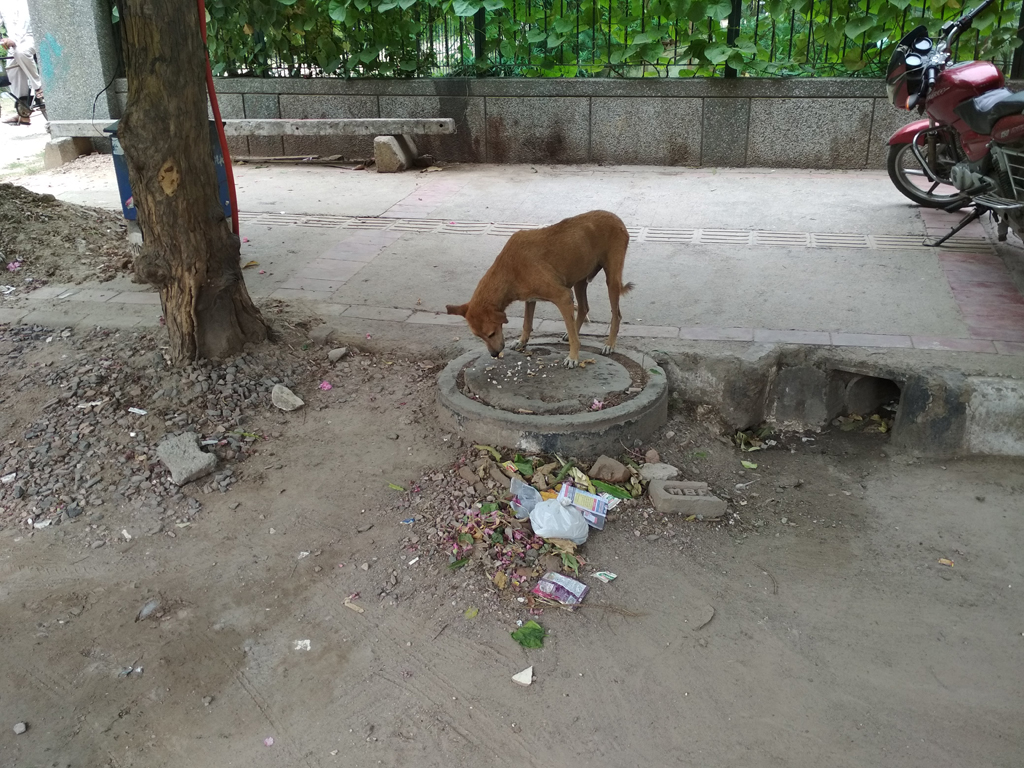dog: (447, 211, 635, 366)
